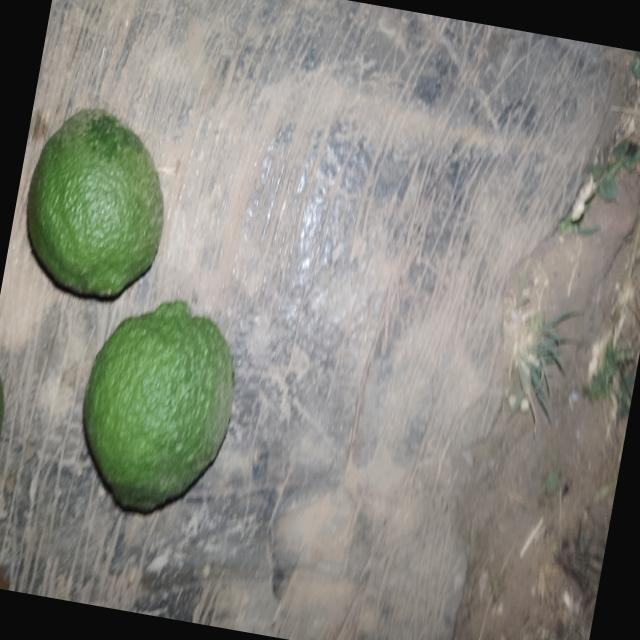agrume: (61, 271, 259, 535), (10, 92, 189, 316)
